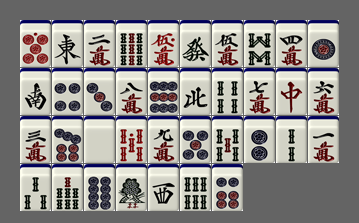0m: (148, 20, 179, 67)
0p: (20, 20, 51, 67)
0s: (116, 116, 147, 163)
1m: (308, 116, 339, 163)
1p: (308, 20, 339, 67)
1s: (116, 164, 147, 211)
1z: (52, 20, 83, 67)
2m: (84, 20, 115, 67)
2p: (244, 116, 275, 163)
2s: (276, 116, 307, 163)
2z: (20, 68, 51, 115)
3m: (20, 116, 51, 163)
3p: (84, 68, 115, 115)
3s: (20, 164, 51, 211)
3z: (148, 164, 179, 211)
4m: (276, 20, 307, 67)
4p: (52, 68, 83, 115)
4s: (212, 68, 243, 115)
4z: (180, 68, 211, 115)
5m: (212, 20, 243, 67)
5p: (180, 116, 211, 163)
5s: (212, 116, 243, 163)
5z: (84, 116, 115, 163)
6m: (308, 68, 339, 115)
6p: (212, 164, 243, 211)
6s: (180, 164, 211, 211)
6z: (180, 20, 211, 67)
7m: (244, 68, 275, 115)
7p: (52, 116, 83, 163)
7s: (52, 164, 83, 211)
7z: (276, 68, 307, 115)
8m: (116, 68, 147, 115)
8p: (84, 164, 115, 211)
8s: (244, 20, 275, 67)
9m: (148, 116, 179, 163)
9p: (148, 68, 179, 115)
9s: (116, 20, 147, 67)
